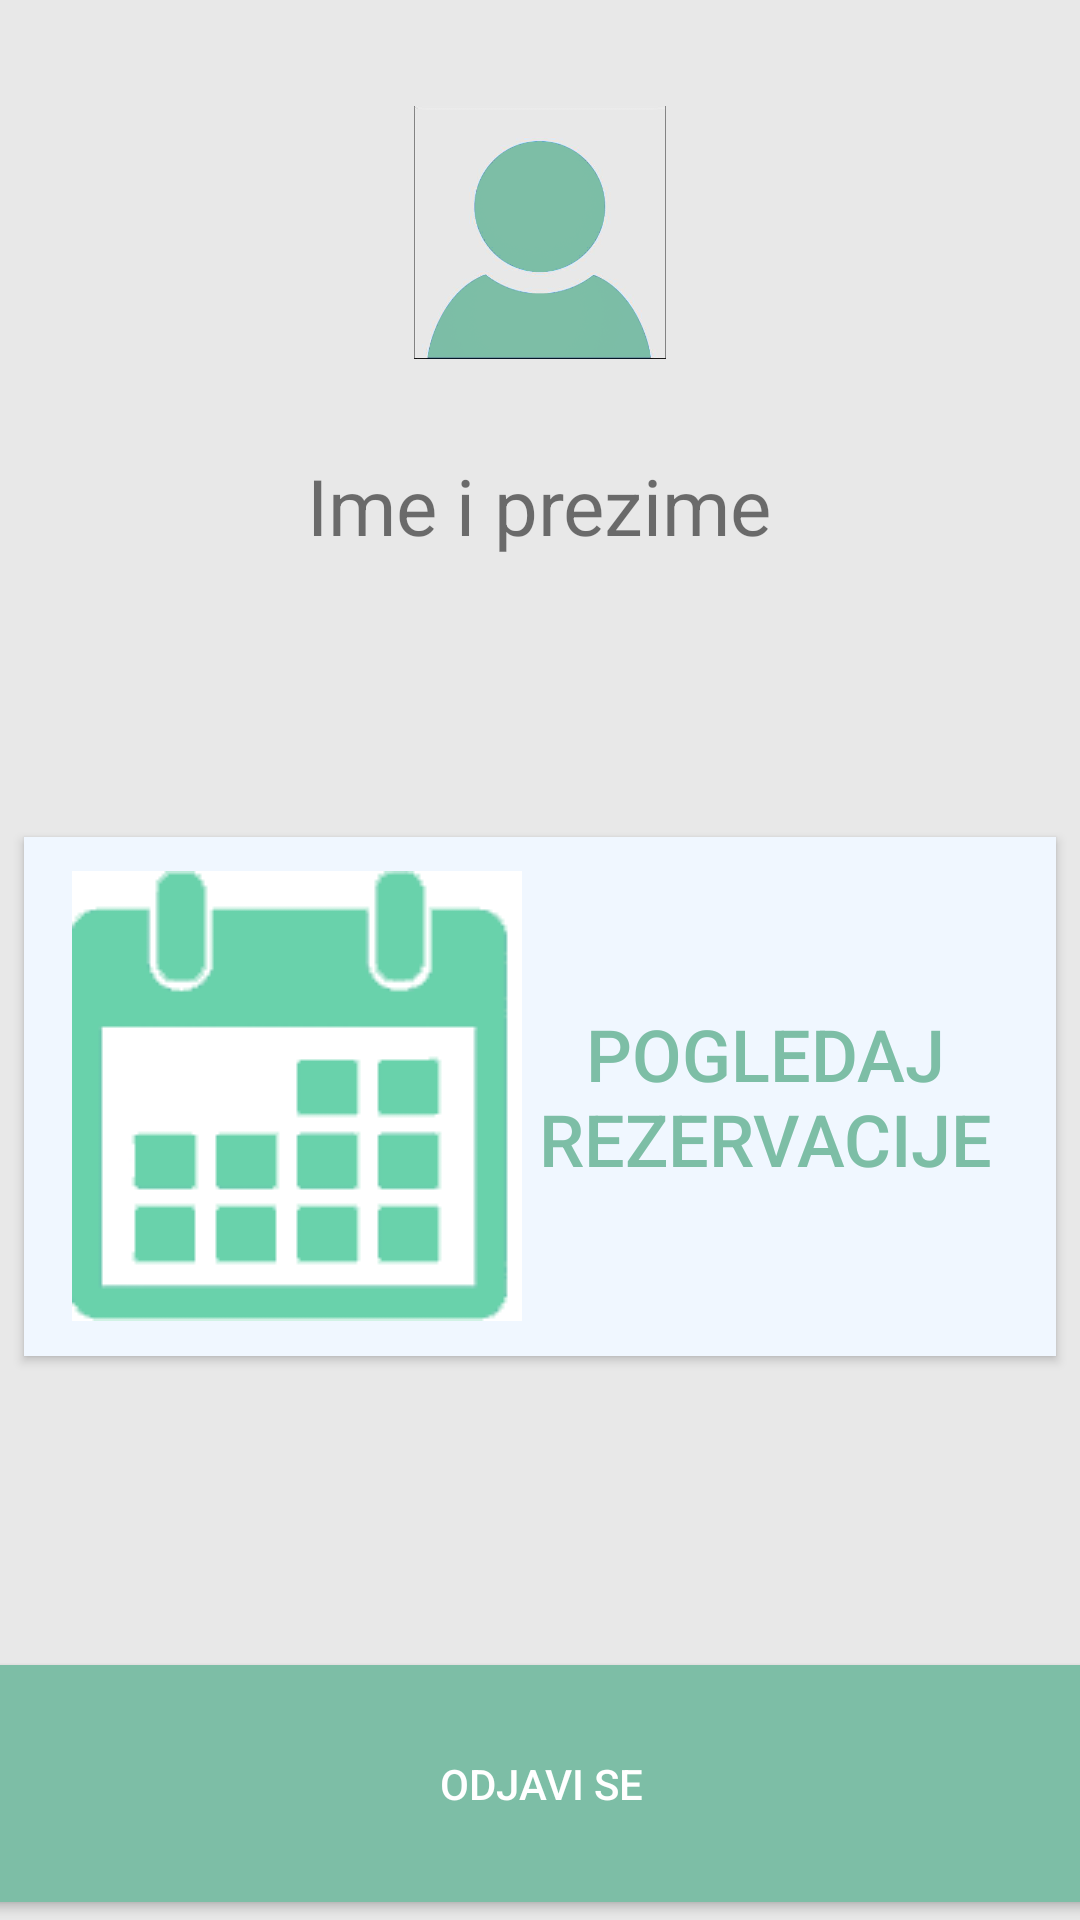

Screen size 1080w x 1920h. Icon name, then its center in pixels as (x=x, y=y):
user: (x=540, y=232)
